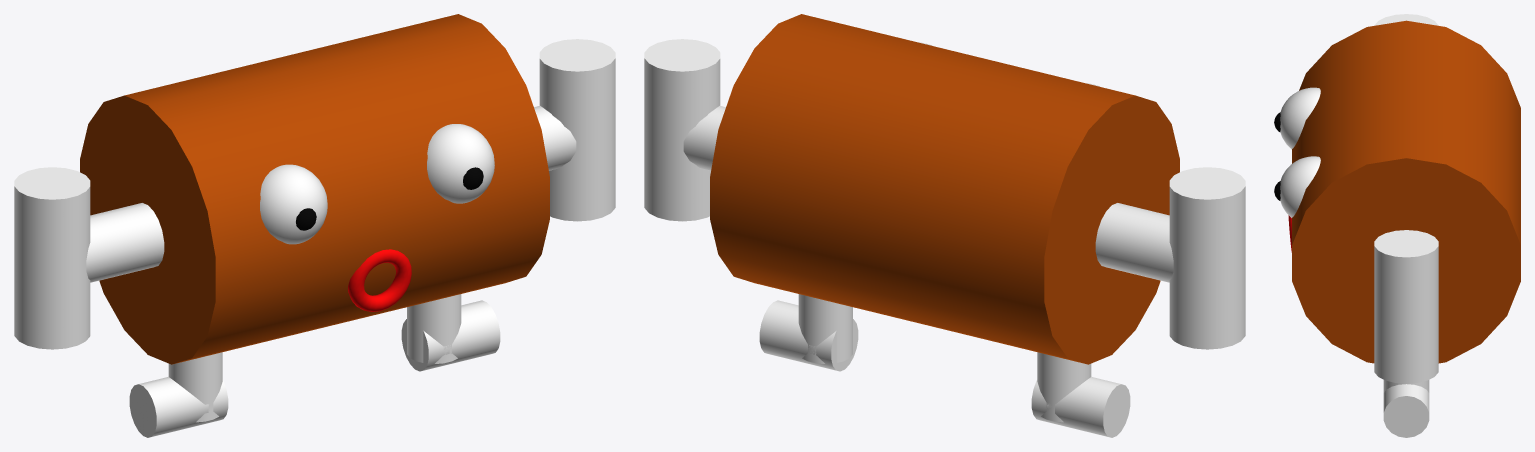
Rendered from Monster1.FBX.
3 renders of one model, left to right at view 1: azimuth 30°, elevation 25°; view 2: azimuth 150°, elevation 25°; view 3: azimuth 270°, elevation 25°, orthographic. The views are drawn at different scales.
Visible parts, largest first — view 1: body, Cylinder009, Cylinder006, Cylinder008, Sphere003, Sphere002, Cylinder004, Cylinder003, Cylinder001, Torus001, Cylinder002, Cylinder005; view 2: body, Cylinder009, Cylinder006, Cylinder008, Cylinder004, Cylinder003, Cylinder001, Cylinder002, Cylinder005; view 3: body, Cylinder006, Cylinder003, Sphere003, Sphere002, Cylinder009.
Boxes of the visible parts, left/top/right/bottom form: body: left=80, top=14, right=549, bottom=364; Cylinder009: left=14, top=167, right=90, bottom=349; Cylinder006: left=539, top=39, right=615, bottom=221; Cylinder008: left=86, top=203, right=164, bottom=282; Sphere003: left=260, top=164, right=327, bottom=244; Sphere002: left=427, top=124, right=494, bottom=203; Cylinder004: left=129, top=377, right=228, bottom=437; Cylinder003: left=401, top=300, right=500, bottom=371; Cylinder001: left=407, top=294, right=461, bottom=363; Torus001: left=348, top=249, right=411, bottom=311; Cylinder002: left=168, top=352, right=222, bottom=422; Cylinder005: left=534, top=106, right=576, bottom=170; body: left=710, top=14, right=1179, bottom=364; Cylinder009: left=1169, top=167, right=1245, bottom=349; Cylinder006: left=644, top=39, right=720, bottom=221; Cylinder008: left=1095, top=203, right=1173, bottom=282; Cylinder004: left=1031, top=377, right=1130, bottom=437; Cylinder003: left=759, top=300, right=858, bottom=371; Cylinder001: left=798, top=294, right=852, bottom=363; Cylinder002: left=1037, top=352, right=1091, bottom=422; Cylinder005: left=683, top=106, right=725, bottom=170; body: left=1292, top=20, right=1520, bottom=363; Cylinder006: left=1374, top=230, right=1438, bottom=383; Cylinder003: left=1383, top=384, right=1429, bottom=437; Sphere003: left=1280, top=87, right=1320, bottom=149; Sphere002: left=1280, top=156, right=1320, bottom=217; Cylinder009: left=1374, top=14, right=1438, bottom=25.
Bounding box in the file's own units: 5.74 × 3.05 × 2.46.
